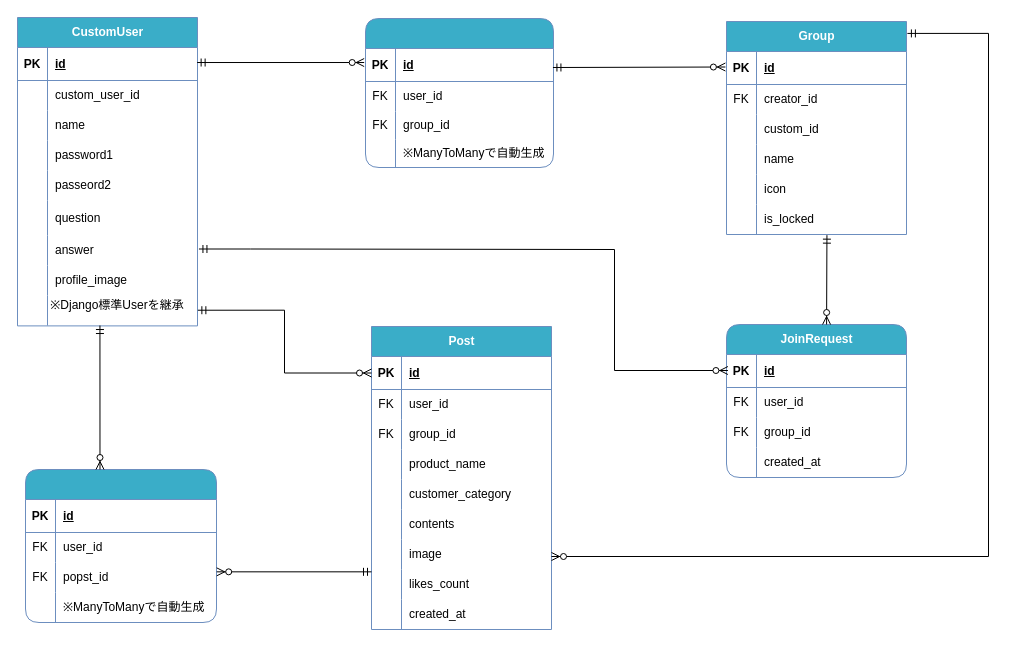
The diagram is 1015 pixels wide and 666 high, and some of its shapes have lost their labels. The shapes that lost their labels are listed below. From the top down, each one's box as (x1, y1, x2, y2) in pixels, then its label:
(364, 18, 554, 168): GroupMembership
(24, 468, 216, 622): liked_users
